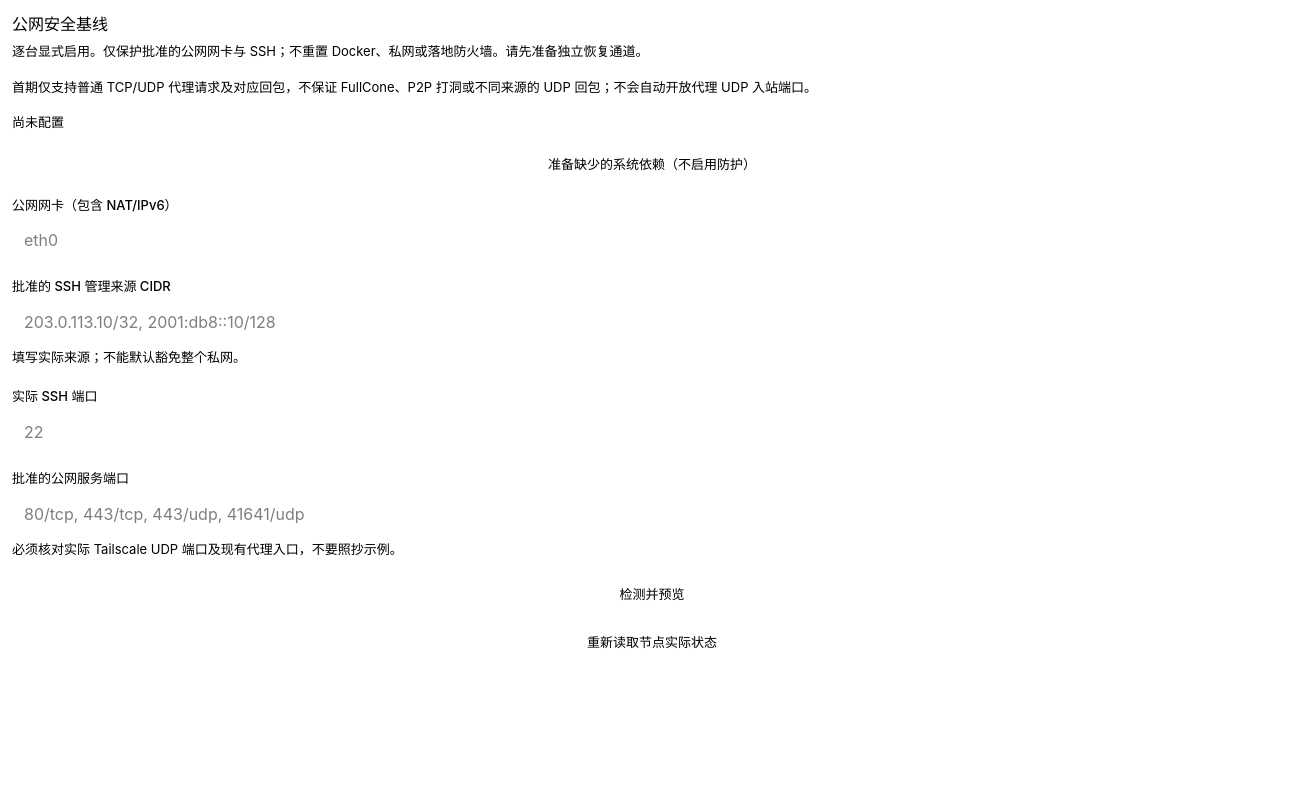
Test: never retries a mutation after a lost response
The width and height of the screenshot is (1304, 812).
Step 1. Click the button "准备缺少的系统依赖（不启用防护）" → coordinates (652, 164), box [12, 148, 1292, 180]
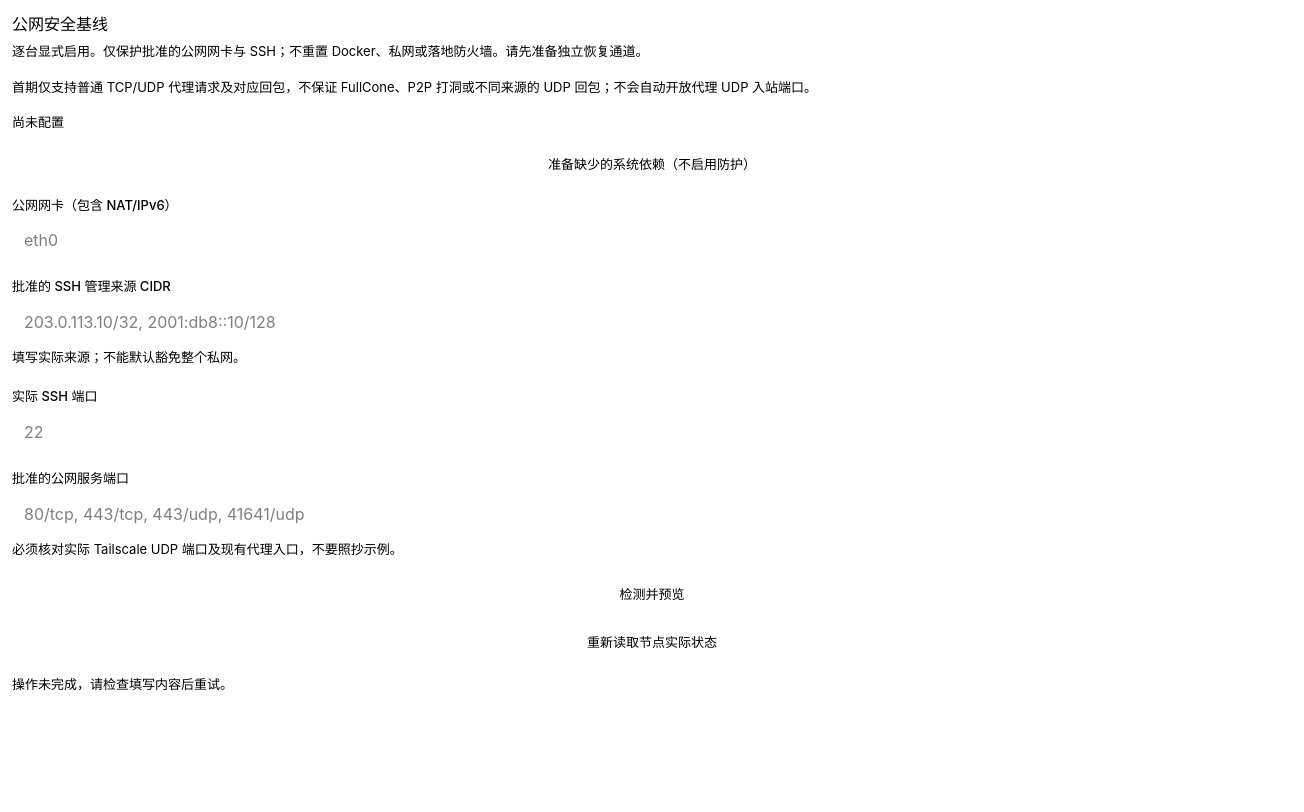
Expected: the message "操作未完成，请检查填写内容后重试。" is shown, [12, 676, 233, 692]
